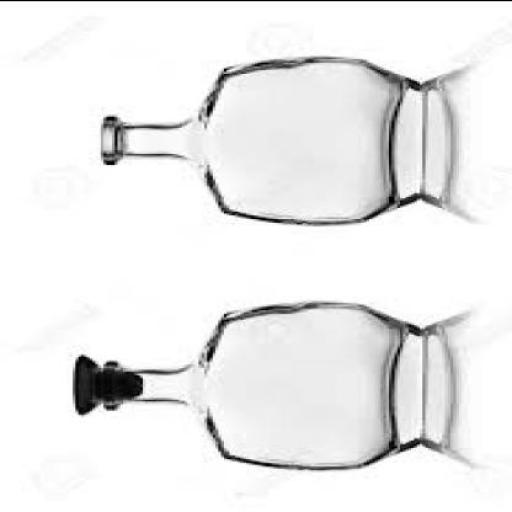glass: (100, 298, 423, 468), (98, 52, 423, 220)
plastic: (70, 351, 140, 412)
